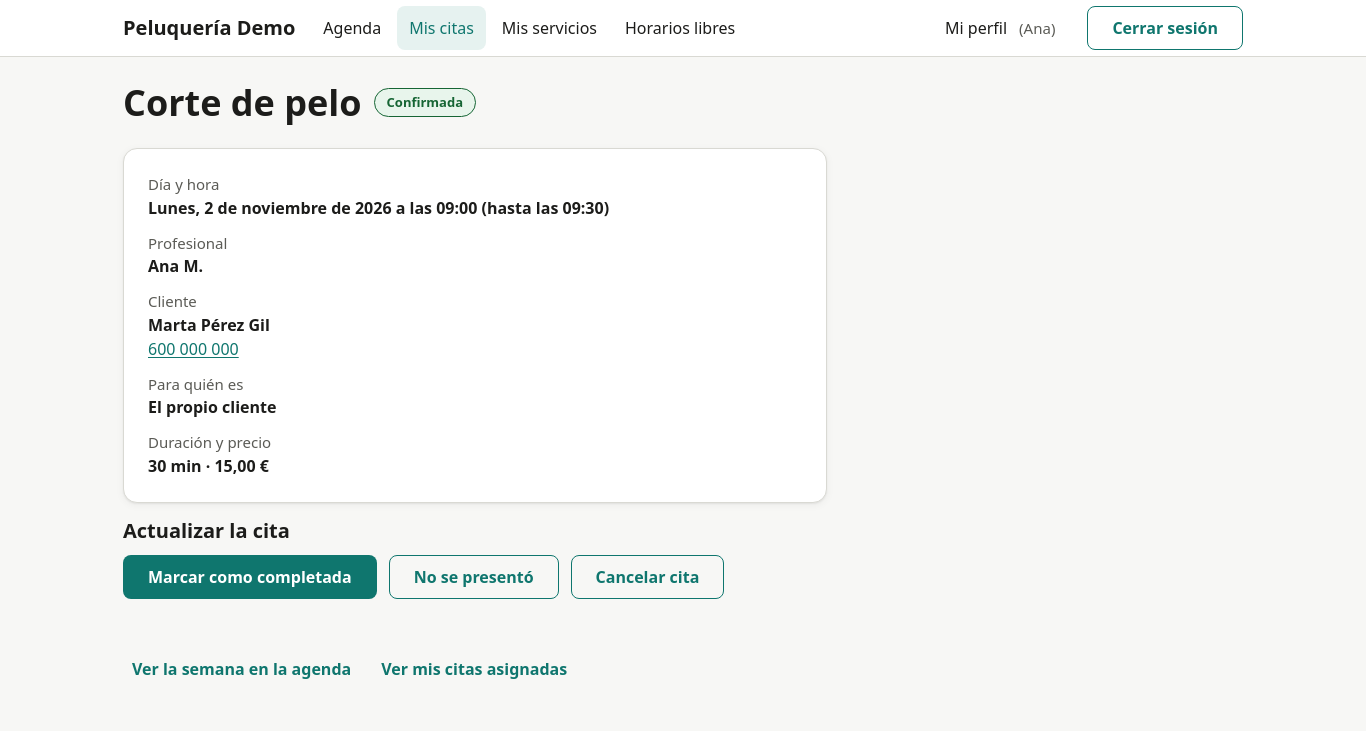
Scenario: detalle y cambio de estado (CU-015) › desde la hora de inicio la marca como completada
Click the button "Marcar como completada".
click(250, 577)  # box [123,555,377,599]
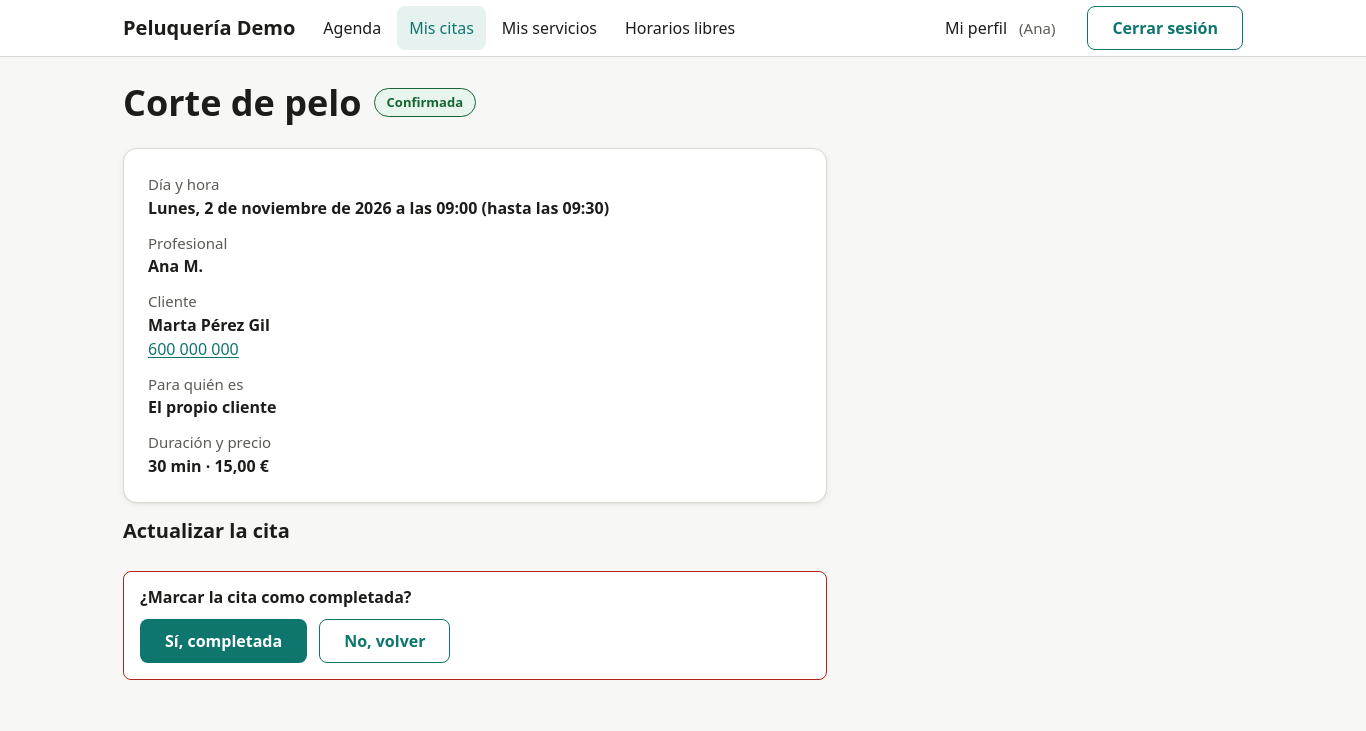
Click the button "Sí, completada".
click(224, 641)  # box [140,619,307,663]
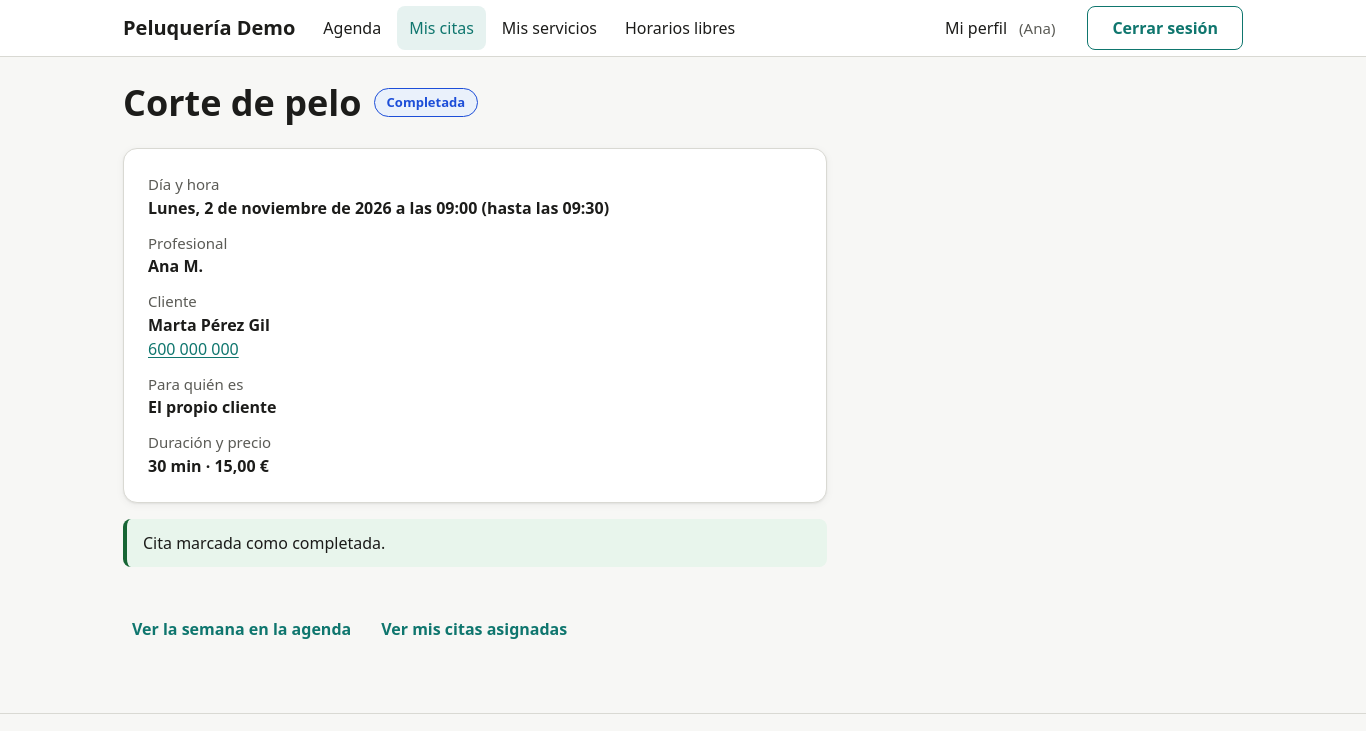
expect the button "Cancelar cita" is not shown: met
expect the text "Cita marcada como completada." is shown: met, box [123,519,827,567]
expect the text "Completada" is shown: met, box [374,88,478,117]
